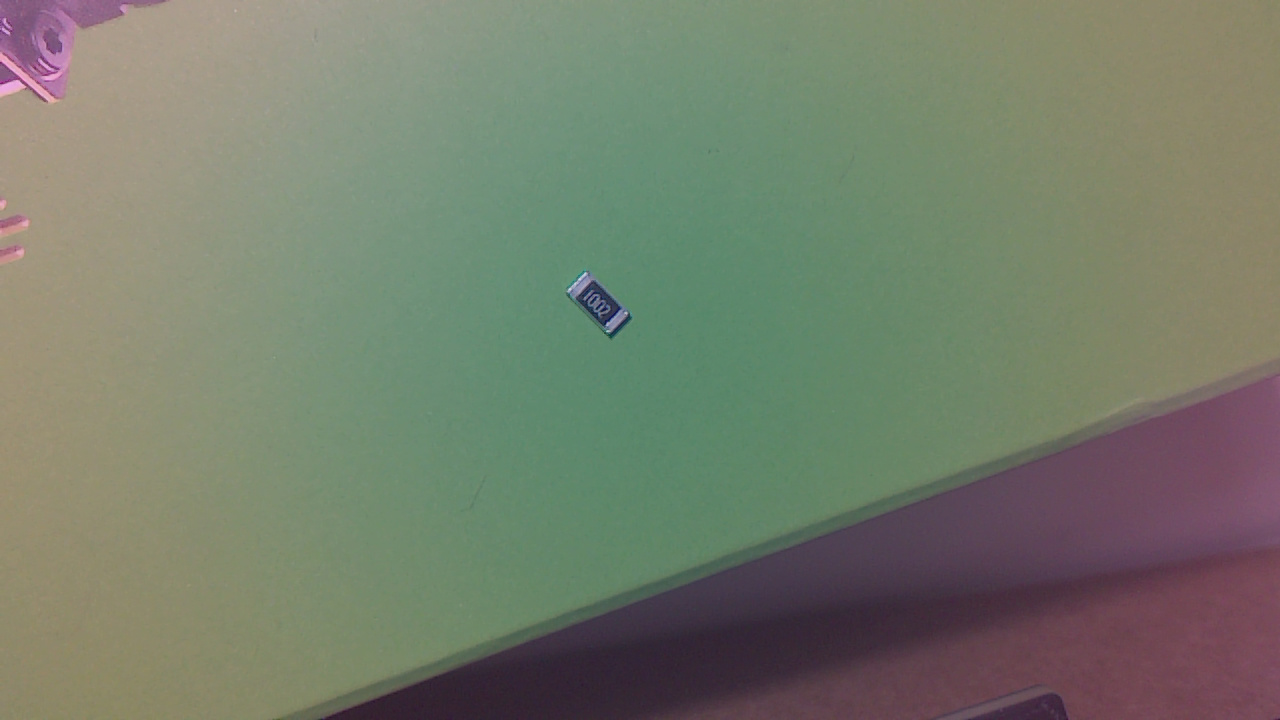Resistor: (572, 276, 638, 343)
